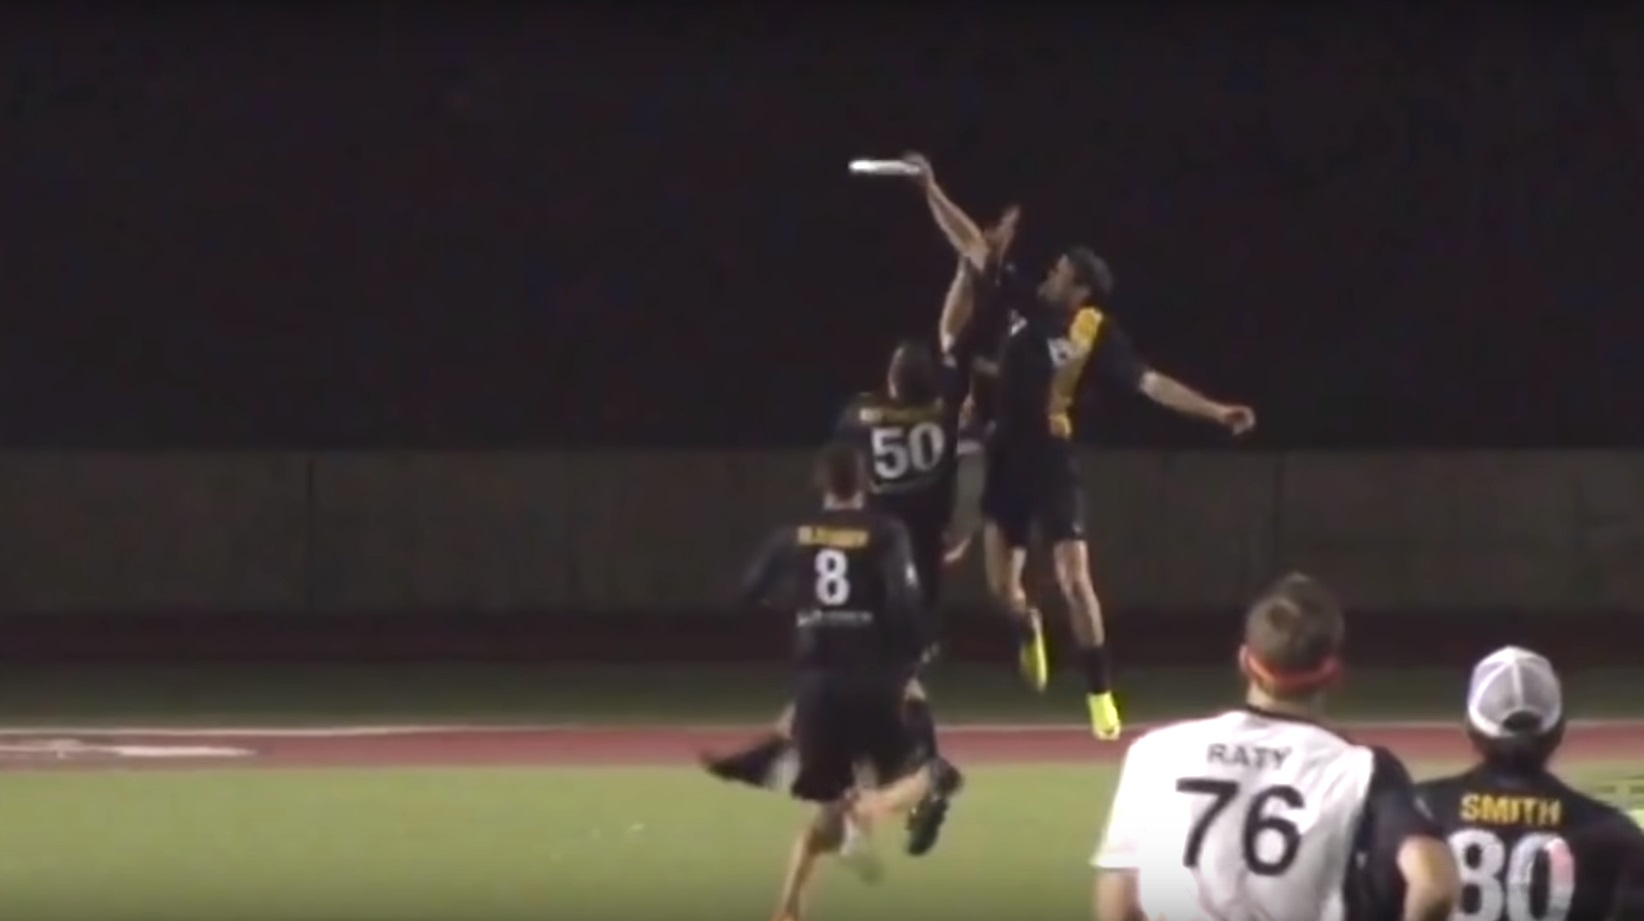frisbee: (848, 157, 922, 175)
